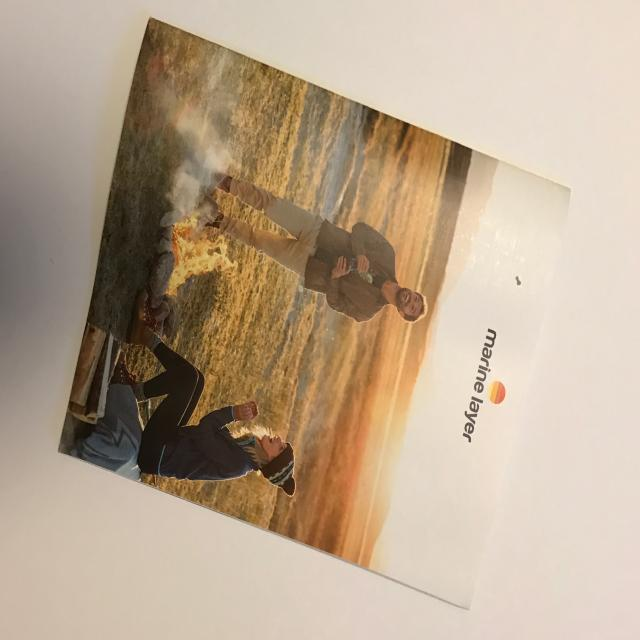paper: (0, 3, 569, 615)
